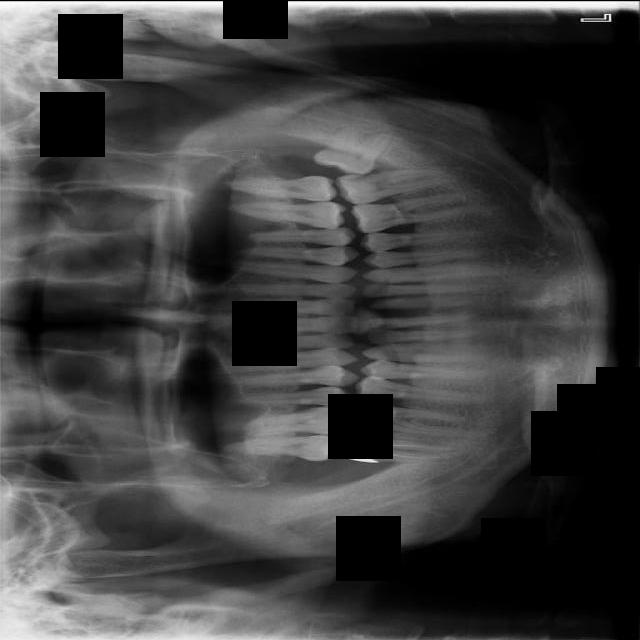52: (338, 425, 391, 467), (350, 174, 371, 181)
73: (380, 436, 458, 469), (497, 69, 537, 86)
BioHorizons Implant: (225, 175, 337, 200)
Biomet 3i Implant: (310, 118, 393, 182)
Blue Sky Bio Implant: (336, 163, 454, 207)
Caries: (219, 433, 341, 463)
Implant: (338, 426, 459, 477)
